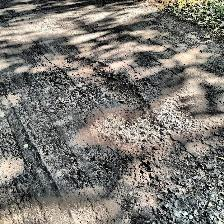pothole: (66, 58, 154, 114)
